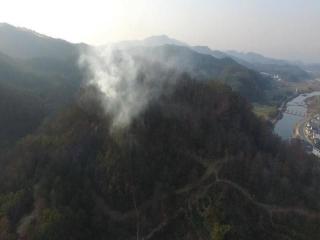smoke: (76, 37, 192, 136)
